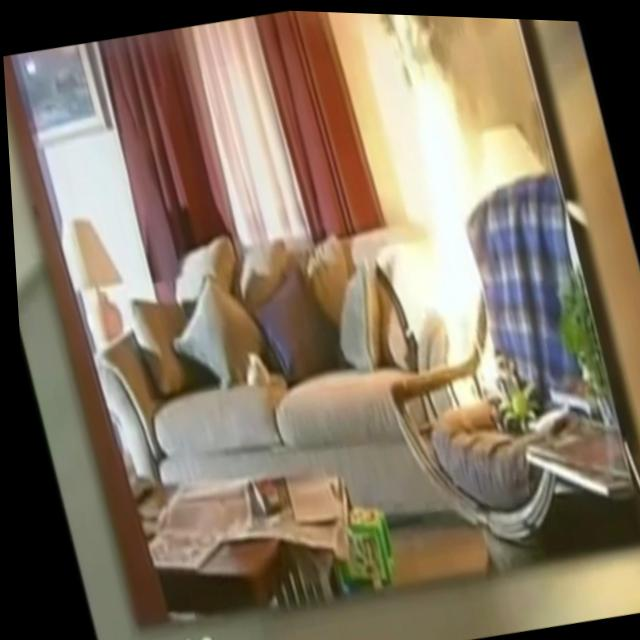fire: (344, 10, 559, 417)
